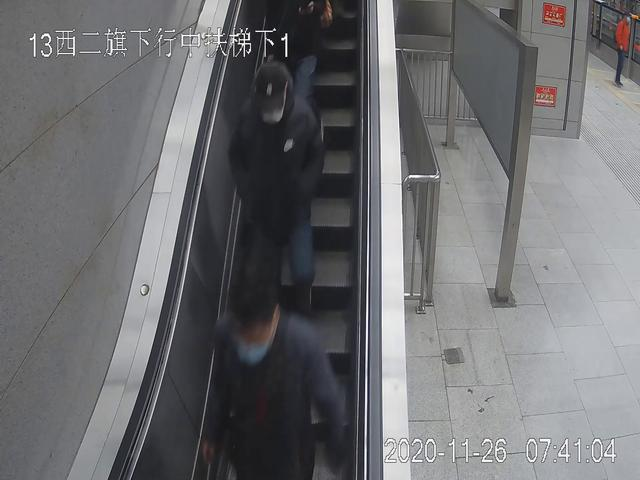person: (202, 281, 350, 480), (231, 63, 321, 313), (612, 12, 633, 89)
